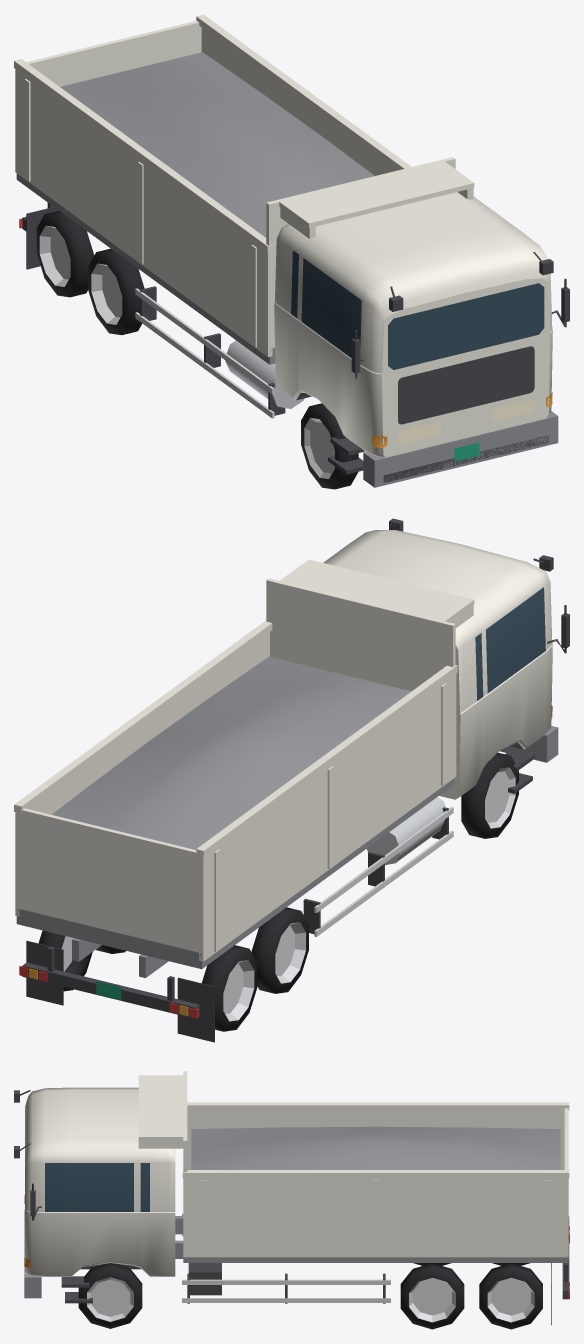
File: scatter4.fbx
3 renders of one model, top to bottom at view 1: azimuth 30°, elevation 25°; view 2: azimuth 150°, elevation 25°; view 3: azimuth 270°, elevation 25°, orthographic. The views are drawn at different scales.
Visible parts, largest first — view 1: a1037/0/scatter4; view 2: a1037/0/scatter4; view 3: a1037/0/scatter4.
Part boxes in pixels (bbox=[...]): a1037/0/scatter4: bbox=[14, 14, 569, 489]; a1037/0/scatter4: bbox=[14, 518, 569, 1042]; a1037/0/scatter4: bbox=[14, 1071, 569, 1329].
Size of the model in its own units: 2.83 by 3.14 by 8.32.
